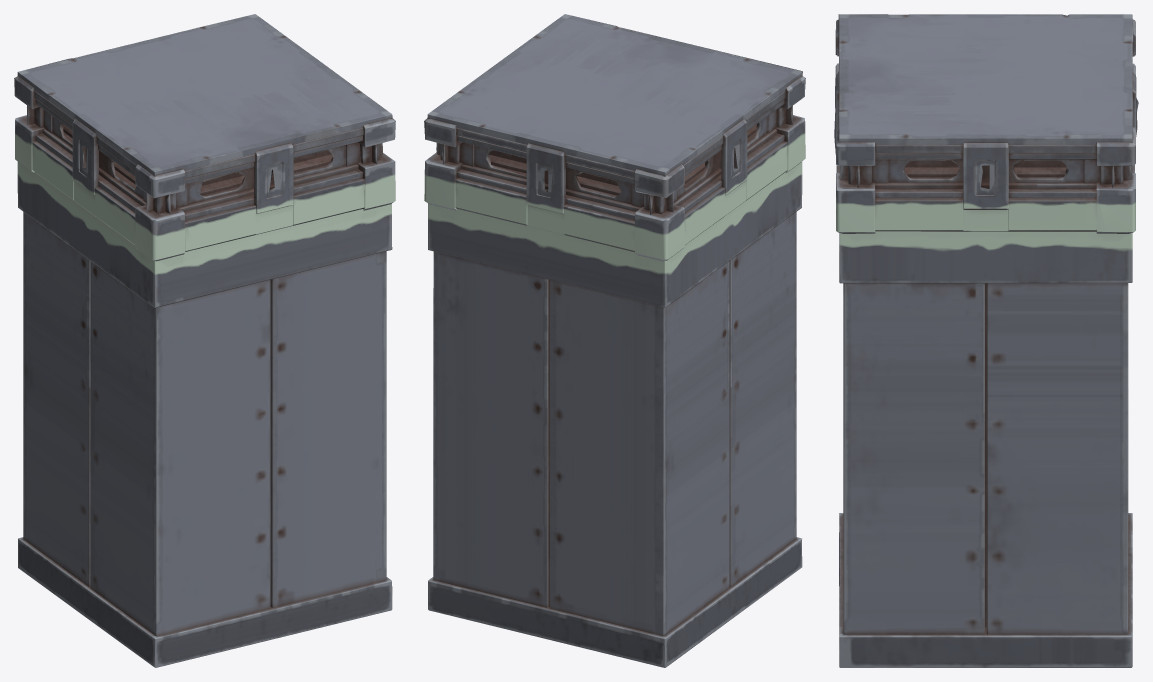
File: Metal Quarter Foundation.glb
3 renders of one model, left to right at view 1: azimuth 30°, elevation 25°; view 2: azimuth 150°, elevation 25°; view 3: azimuth 270°, elevation 25°, orthographic. The views are drawn at different scales.
Parts seen in each view (by area): view 1: SM_Metal_FloorQuarter; view 2: SM_Metal_FloorQuarter; view 3: SM_Metal_FloorQuarter.
Boxes of the visible parts, x1,y1,x2,y2 form: SM_Metal_FloorQuarter: [14, 14, 395, 667]; SM_Metal_FloorQuarter: [424, 14, 805, 667]; SM_Metal_FloorQuarter: [834, 14, 1138, 667].
Bounding box in the file's own units: 1.54 × 2.99 × 1.56.
Materials: 1 (1 with a texture image).
